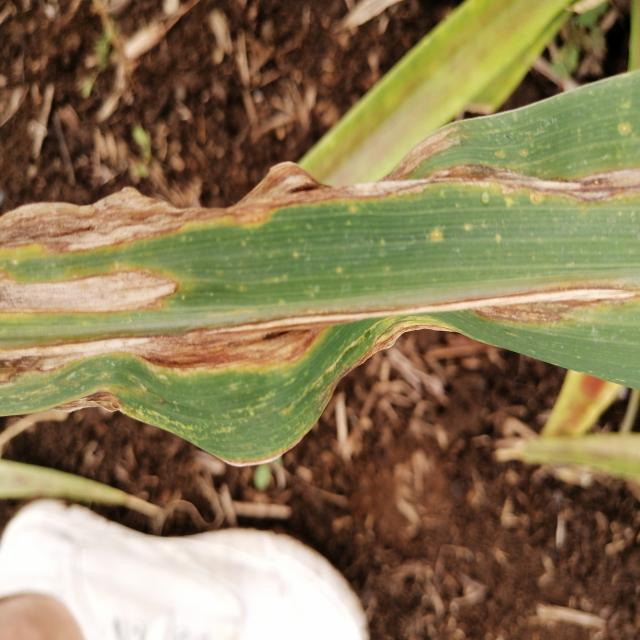Corn_Leaf_Blight: (0, 74, 640, 461)
